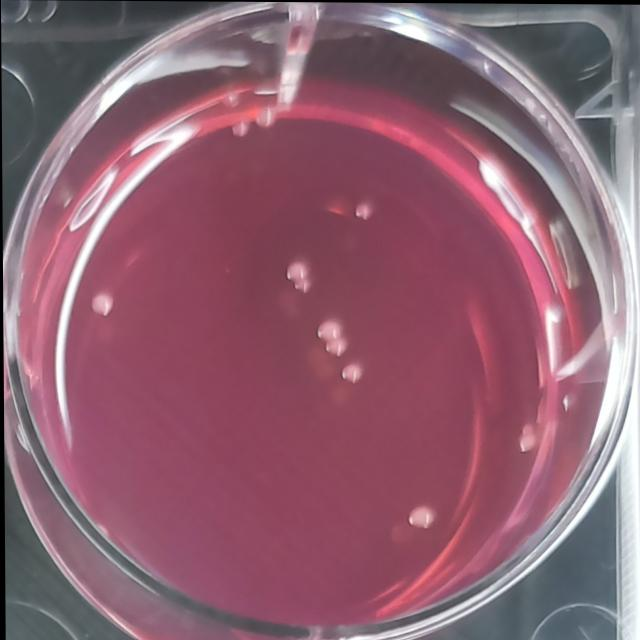Bacillus: (402, 500, 439, 533), (85, 286, 117, 321), (514, 419, 539, 455), (312, 314, 344, 342), (349, 196, 379, 223), (337, 358, 367, 385), (321, 335, 352, 359), (282, 258, 308, 280), (291, 276, 313, 294)
